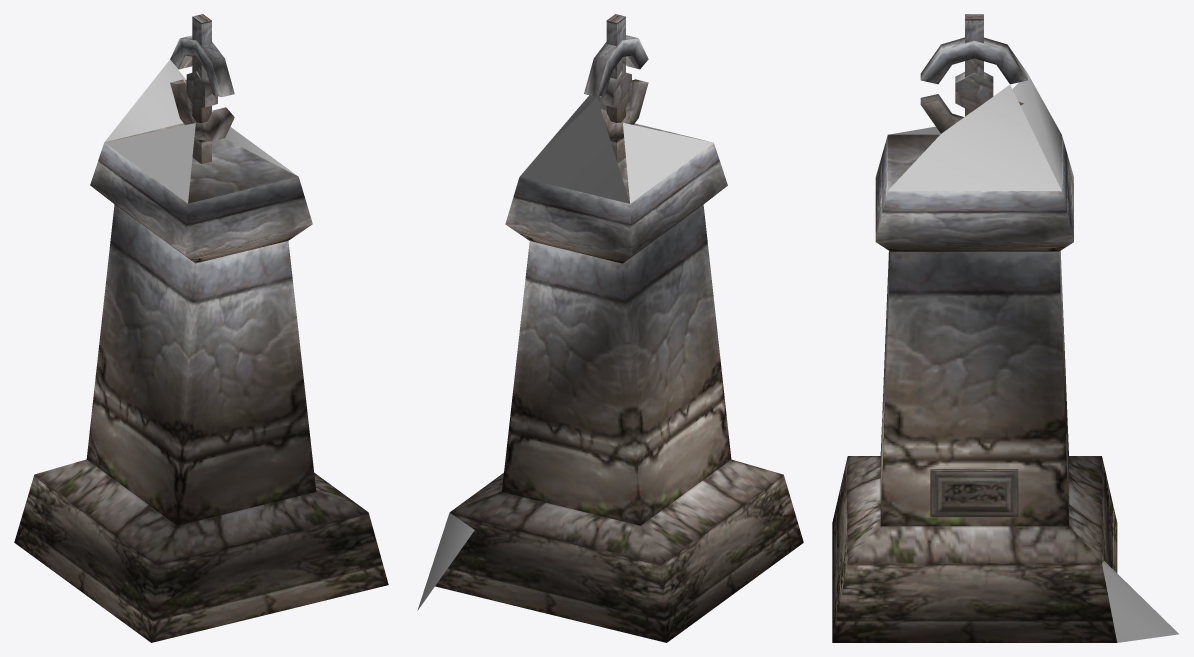
The model's file is tombstonemonument01.obj.
3 views of the same model, side by side, from view 1: azimuth 30°, elevation 25°; view 2: azimuth 150°, elevation 25°; view 3: azimuth 270°, elevation 25° (orthographic). The views are drawn at different scales.
Parts seen in each view (by area): view 1: TOMBSTONEMONUMENT011, TOMBSTONEMONUMENT010, TOMBSTONEMONUMENT013; view 2: TOMBSTONEMONUMENT011, TOMBSTONEMONUMENT010, TOMBSTONEMONUMENT013; view 3: TOMBSTONEMONUMENT011, TOMBSTONEMONUMENT010, TOMBSTONEMONUMENT013, TOMBSTONEMONUMENT012.
Part boxes in pixels (left/top/right/bottom): TOMBSTONEMONUMENT011: left=86, top=14, right=316, bottom=525; TOMBSTONEMONUMENT010: left=14, top=459, right=388, bottom=642; TOMBSTONEMONUMENT013: left=104, top=60, right=297, bottom=203; TOMBSTONEMONUMENT011: left=502, top=14, right=731, bottom=525; TOMBSTONEMONUMENT010: left=435, top=459, right=803, bottom=642; TOMBSTONEMONUMENT013: left=417, top=95, right=713, bottom=610; TOMBSTONEMONUMENT011: left=875, top=14, right=1073, bottom=526; TOMBSTONEMONUMENT010: left=832, top=456, right=1117, bottom=642; TOMBSTONEMONUMENT013: left=888, top=74, right=1178, bottom=642; TOMBSTONEMONUMENT012: left=930, top=469, right=1018, bottom=516.
Bounding box in the file's own units: 2.52 × 5.53 × 3.07.
